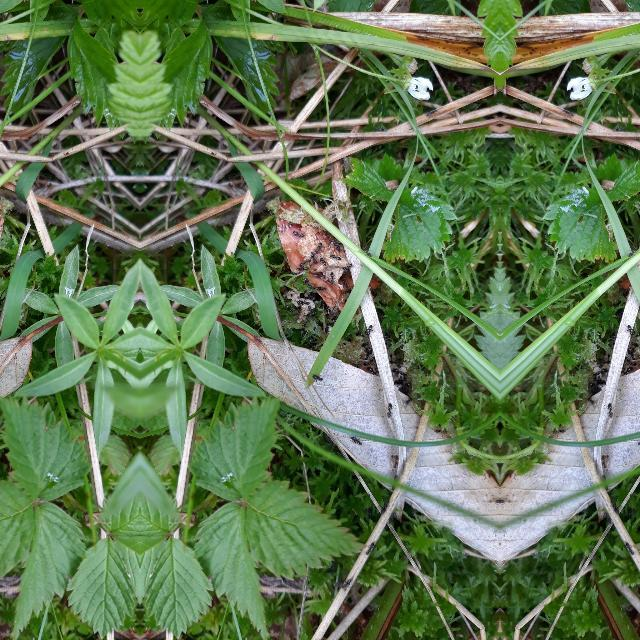Tapinoma: (350, 434, 364, 450), (311, 240, 323, 258), (304, 275, 314, 291), (386, 402, 394, 421), (606, 402, 614, 421), (312, 373, 324, 385), (292, 228, 304, 240), (379, 498, 388, 514), (364, 323, 374, 337), (366, 541, 376, 555), (307, 304, 317, 318), (392, 355, 402, 369), (626, 323, 636, 337), (624, 541, 634, 555), (598, 355, 608, 369), (300, 316, 308, 332), (294, 297, 310, 305), (612, 498, 620, 514), (366, 345, 376, 357), (366, 364, 376, 376), (392, 366, 404, 376), (387, 512, 397, 524), (342, 578, 352, 590), (400, 380, 412, 390), (624, 345, 634, 357), (624, 364, 634, 376), (596, 366, 608, 376), (603, 512, 613, 524), (588, 380, 600, 390), (309, 250, 317, 264), (329, 253, 343, 261), (309, 338, 317, 352), (363, 356, 373, 366), (332, 242, 342, 252), (285, 304, 295, 314), (627, 356, 637, 366), (319, 254, 327, 266), (296, 300, 302, 316), (298, 258, 310, 266), (344, 262, 352, 274), (340, 274, 348, 286), (425, 108, 437, 116), (563, 108, 575, 116), (403, 396, 412, 406), (329, 270, 335, 284), (373, 126, 387, 132), (613, 126, 627, 132), (364, 249, 374, 257), (588, 396, 596, 406), (626, 249, 636, 257), (314, 284, 326, 290), (296, 266, 308, 272), (636, 434, 640, 450), (315, 274, 325, 280)
